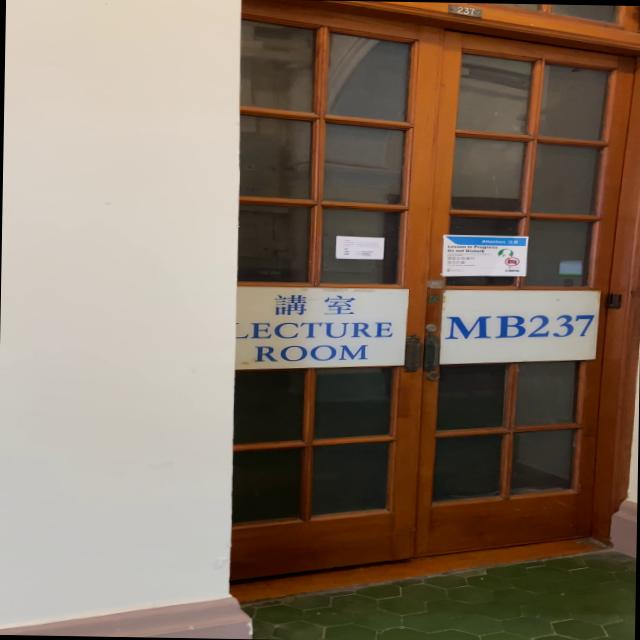room237: (444, 2, 486, 22)
room237Window: (442, 308, 596, 344)
